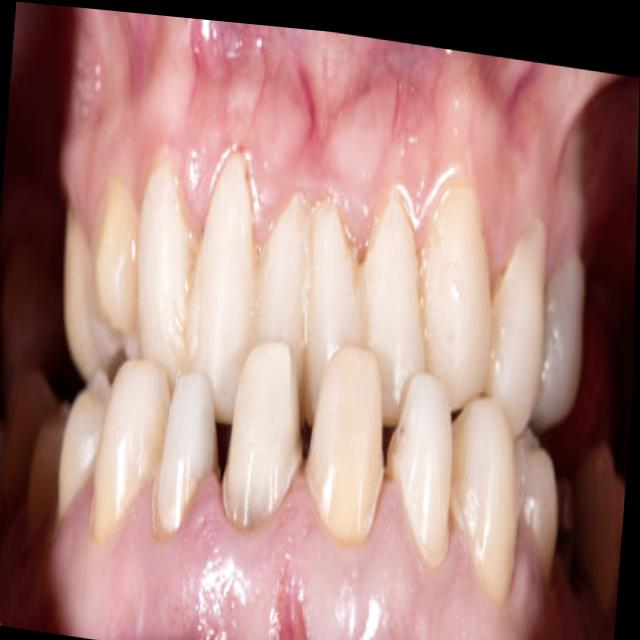gingivitis: (63, 22, 563, 255), (53, 487, 552, 640)
